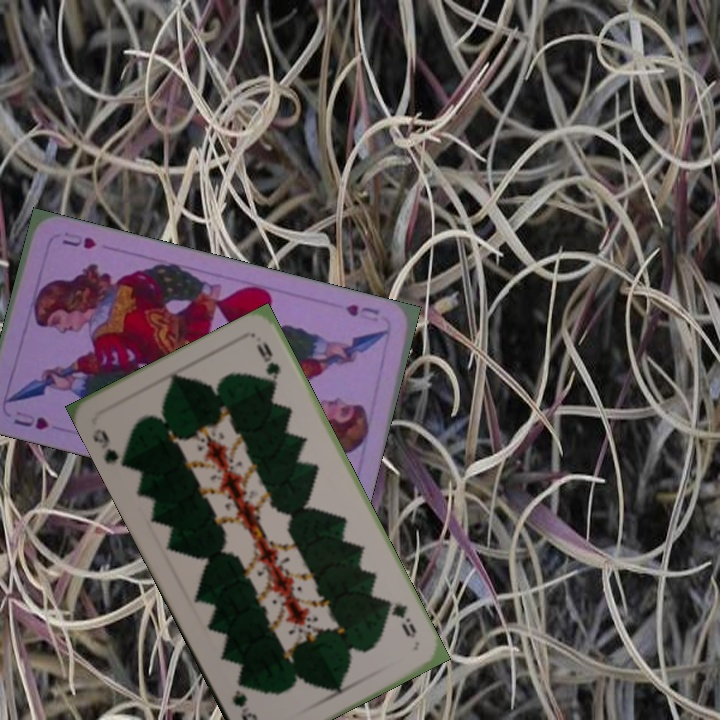G9: (88, 424, 130, 470), (381, 595, 420, 641)
HU: (9, 407, 52, 433), (341, 300, 382, 319)
